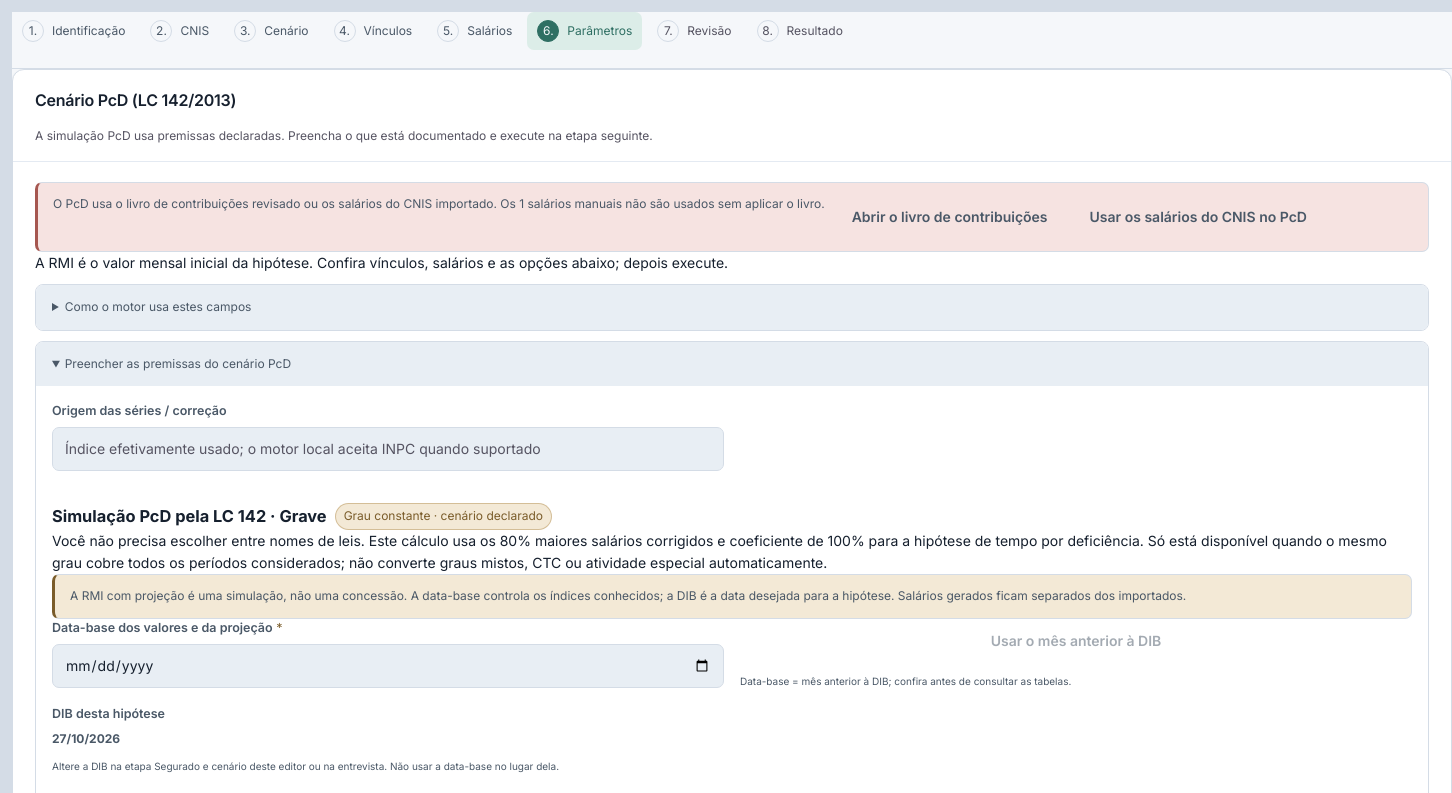
Test: PcD editor can drop manual salaries and use the CNIS source
Click the button "Usar os salários do CNIS no PcD" at (1198, 217), box [1074,195,1322,239]
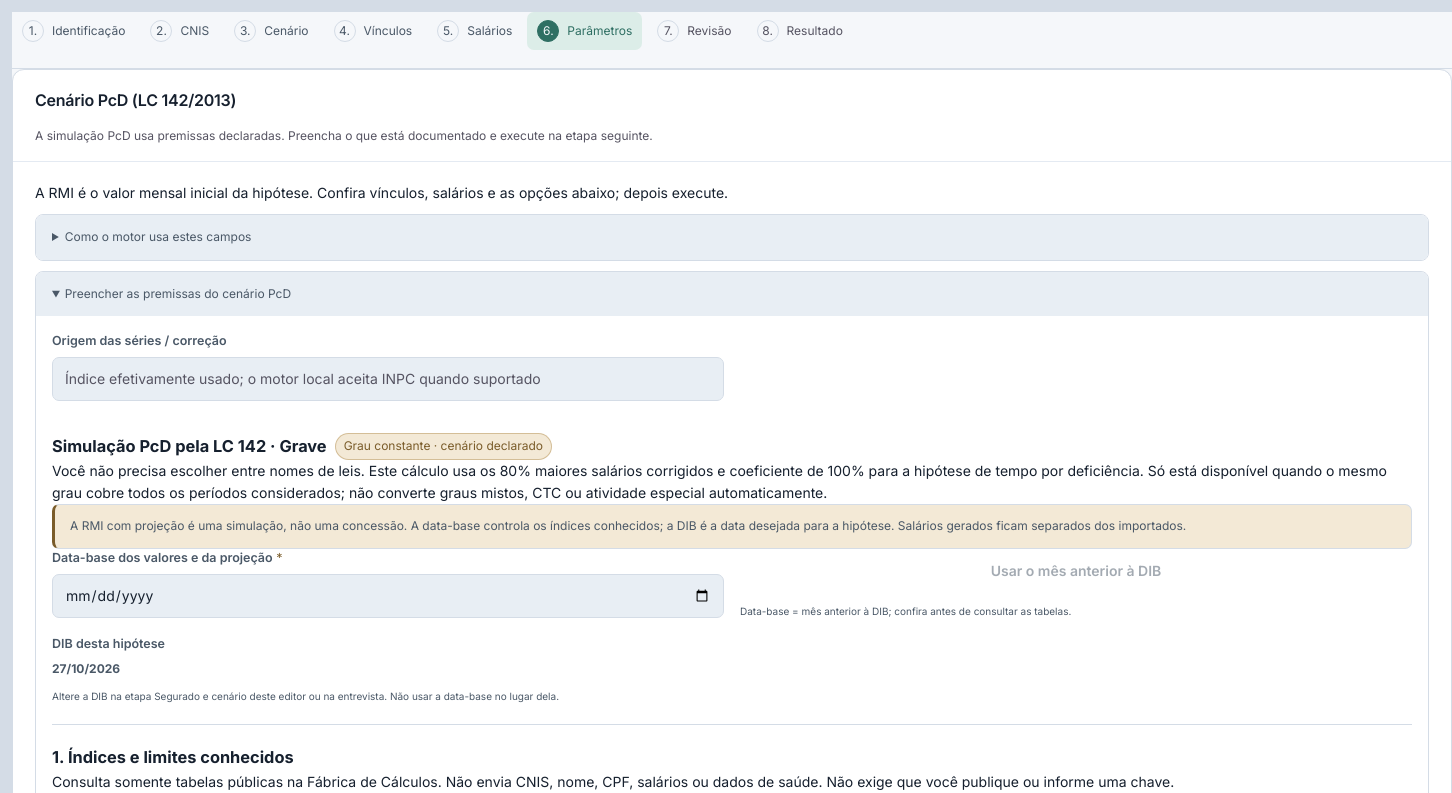
Check: the heading "Simulação PcD pela LC 142 · Grave" is shown, box [52,434,327,459]
Check: the text "O PcD usa o livro" is gone
